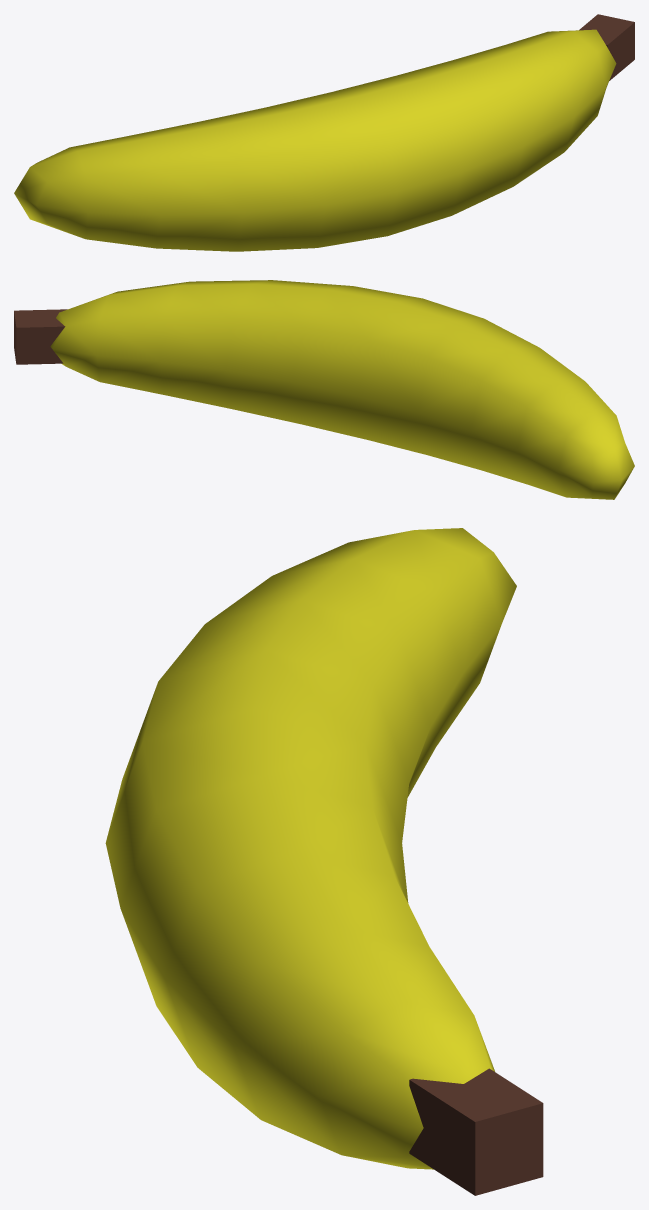
Rendered from banana.gltf.
The picture shows the model from 3 angles, top to bottom: view 1: azimuth 30°, elevation 25°; view 2: azimuth 150°, elevation 25°; view 3: azimuth 270°, elevation 25°; orthographic projection. The views are drawn at different scales.
Parts seen in each view (by area): view 1: Cube, Cube.001; view 2: Cube, Cube.001; view 3: Cube, Cube.001.
Part boxes in pixels (x1,y1,x2,y2): Cube: [14, 29, 616, 251]; Cube.001: [579, 14, 634, 80]; Cube: [50, 280, 634, 499]; Cube.001: [14, 309, 67, 364]; Cube: [105, 528, 516, 1169]; Cube.001: [409, 1068, 543, 1195].
Bounding box in the file's own units: 9.49 × 2 × 2.95.
